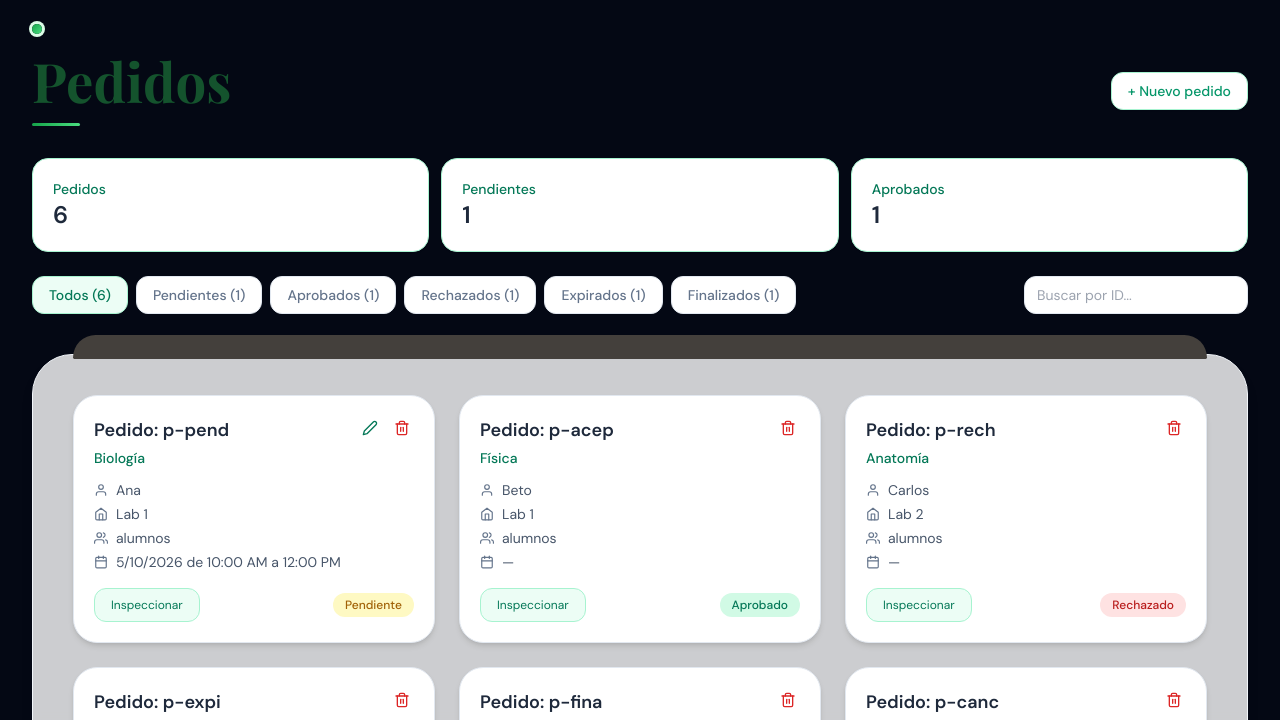
Test: Pedidos — filtros y estados › eliminar pide confirmación y saca el pedido de la lista
expect the text "Biología" is shown: met, box [94,449,145,467]
Step 1. Click the button titled "Eliminar pedido" in the row of "p-pend" → coordinates (402, 428), box [390,416,414,440]
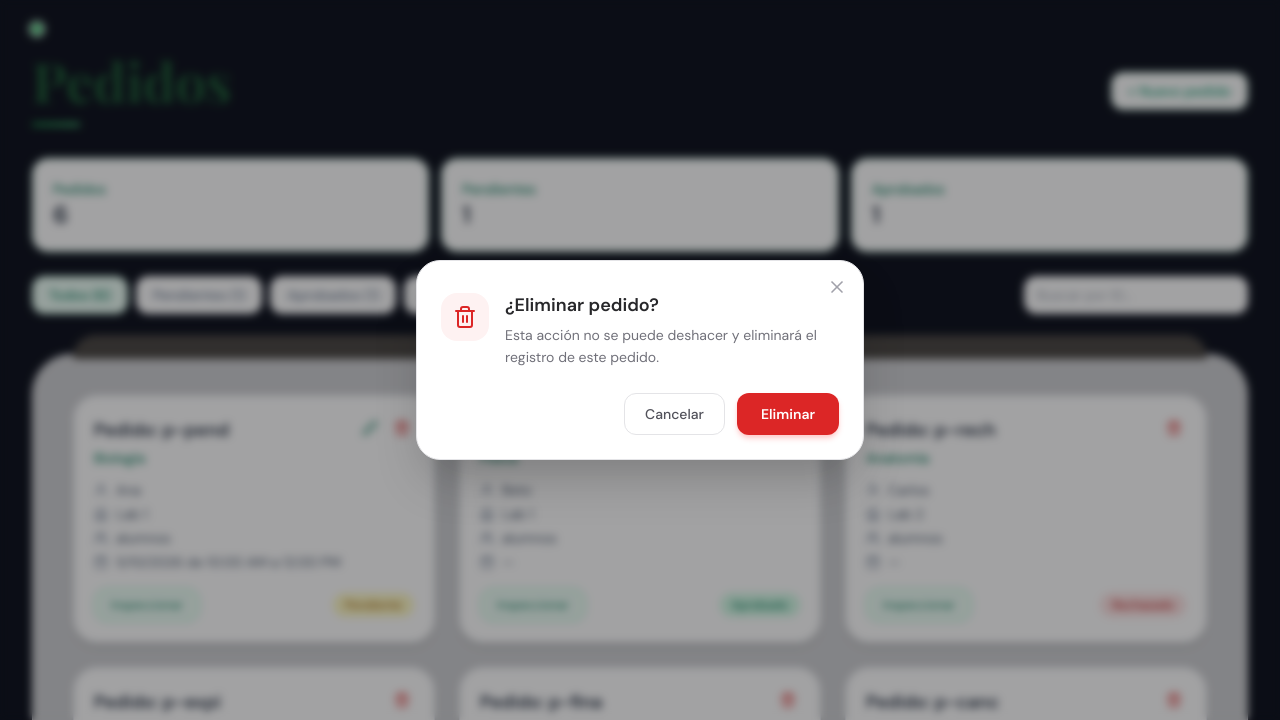
expect the heading "¿Eliminar pedido?" is shown: met, box [505,293,659,317]
Step 2. Click the button "Eliminar" → coordinates (788, 414), box [737,393,839,435]
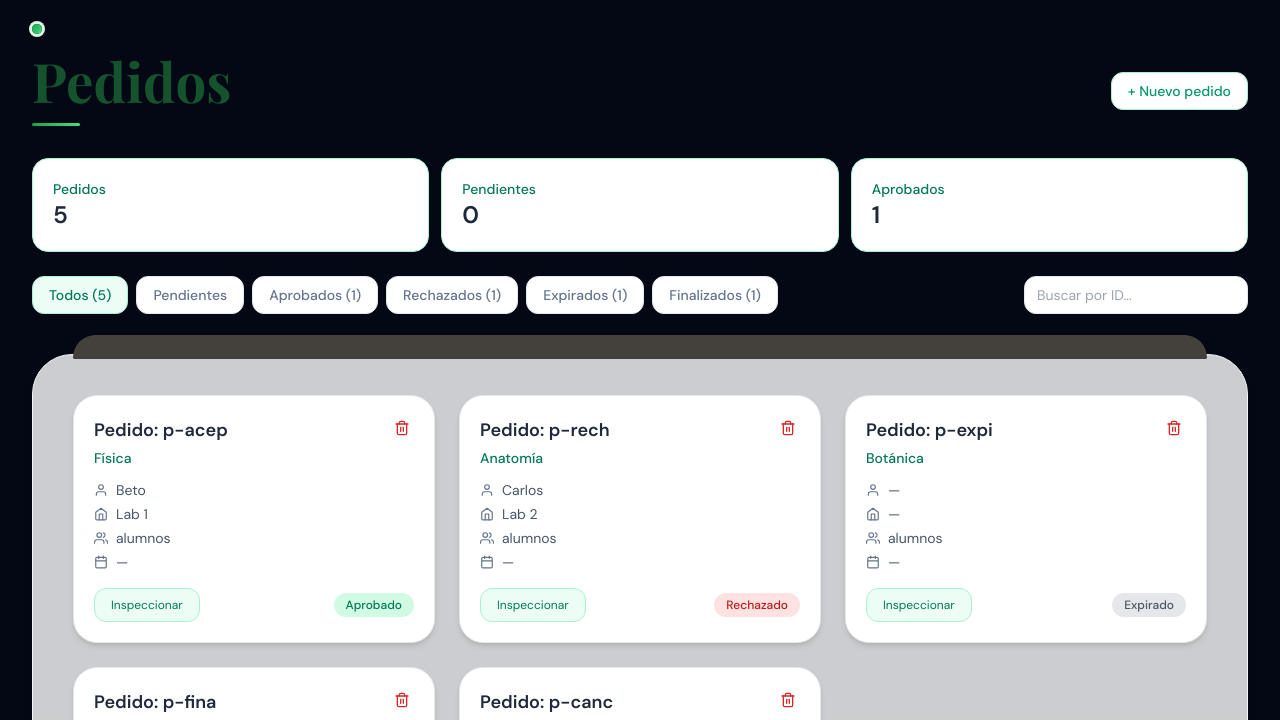
expect the text "Biología" is gone: met
